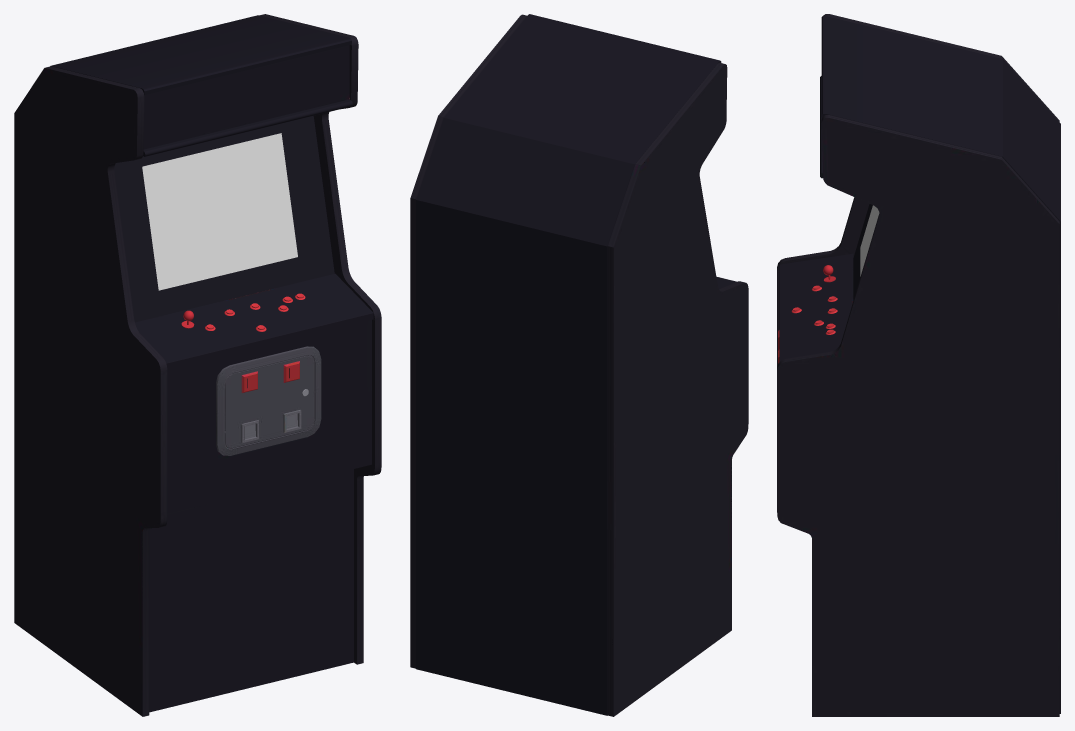
Rendered from cabinet.glb.
3 renders of one model, left to right at view 1: azimuth 30°, elevation 25°; view 2: azimuth 150°, elevation 25°; view 3: azimuth 270°, elevation 25°, orthographic. The views are drawn at different scales.
Parts seen in each view (by area): view 1: Cabinet, Screen; view 2: Cabinet; view 3: Cabinet, Screen.
Part boxes in pixels (bbox=[...]): Cabinet: bbox=[14, 14, 381, 716]; Screen: bbox=[142, 133, 297, 290]; Cabinet: bbox=[410, 14, 748, 716]; Cabinet: bbox=[777, 14, 1060, 716]; Screen: bbox=[860, 205, 879, 276].
Bounding box in the file's own units: 0.6619 × 1.78 × 0.7629.
Materials: 2 (1 with a texture image).
